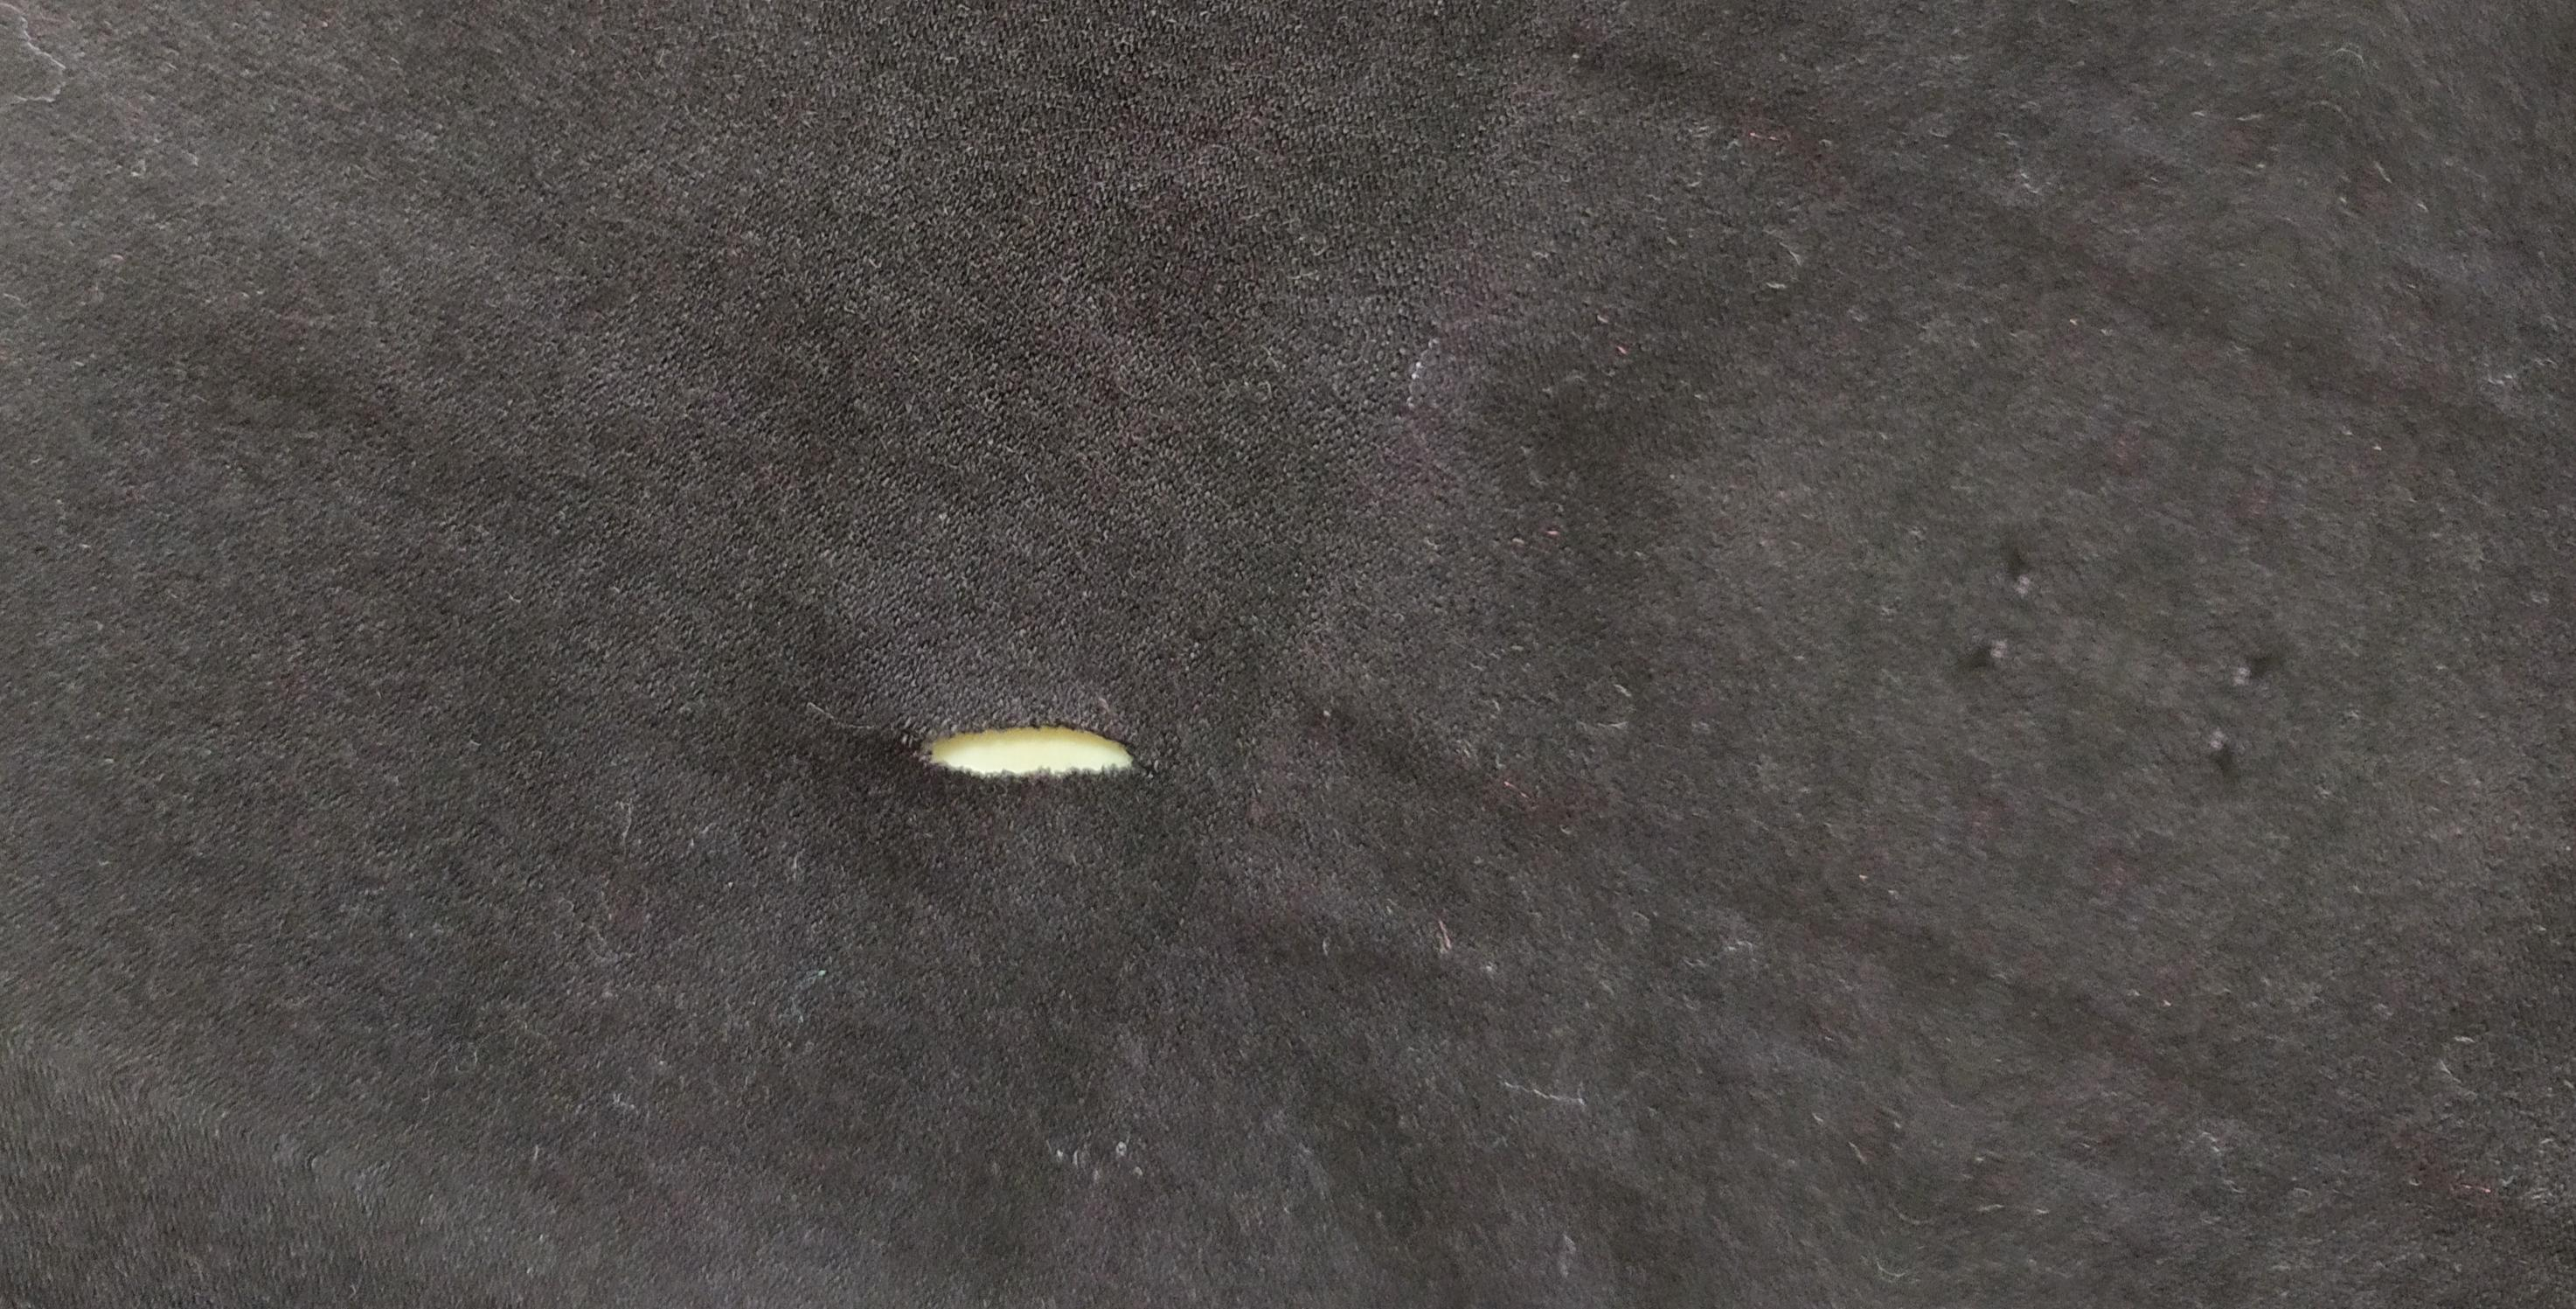hole: (911, 705, 1161, 826)
